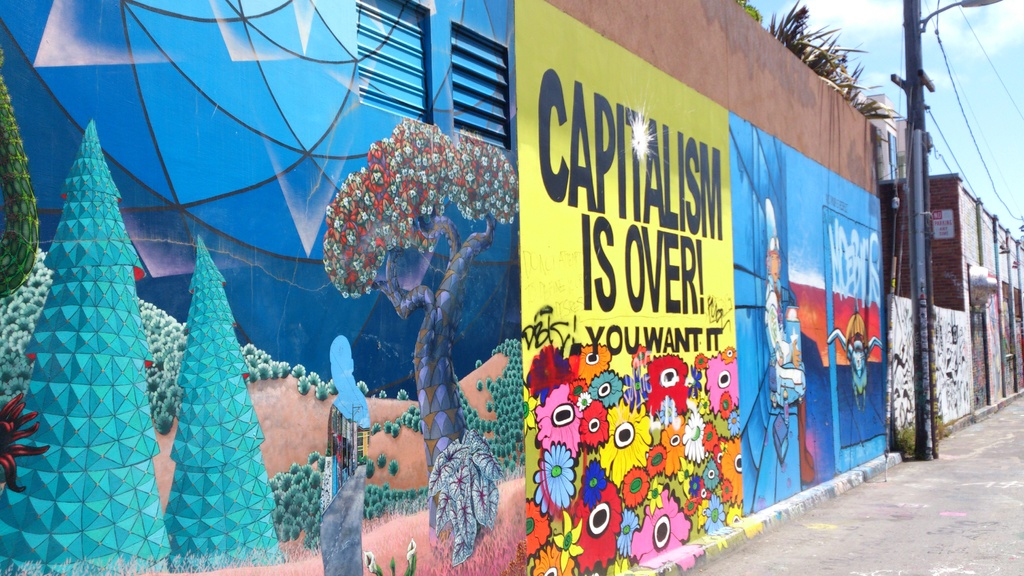Tree: (321, 117, 520, 539), (0, 125, 168, 574), (159, 238, 281, 571)
